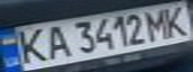1: (109, 12, 133, 47)
2: (124, 11, 148, 45)
3: (69, 18, 97, 54)
4: (90, 15, 115, 51)
A: (39, 22, 72, 60)
K: (9, 25, 51, 65), (160, 3, 193, 38)
M: (142, 7, 172, 40)
